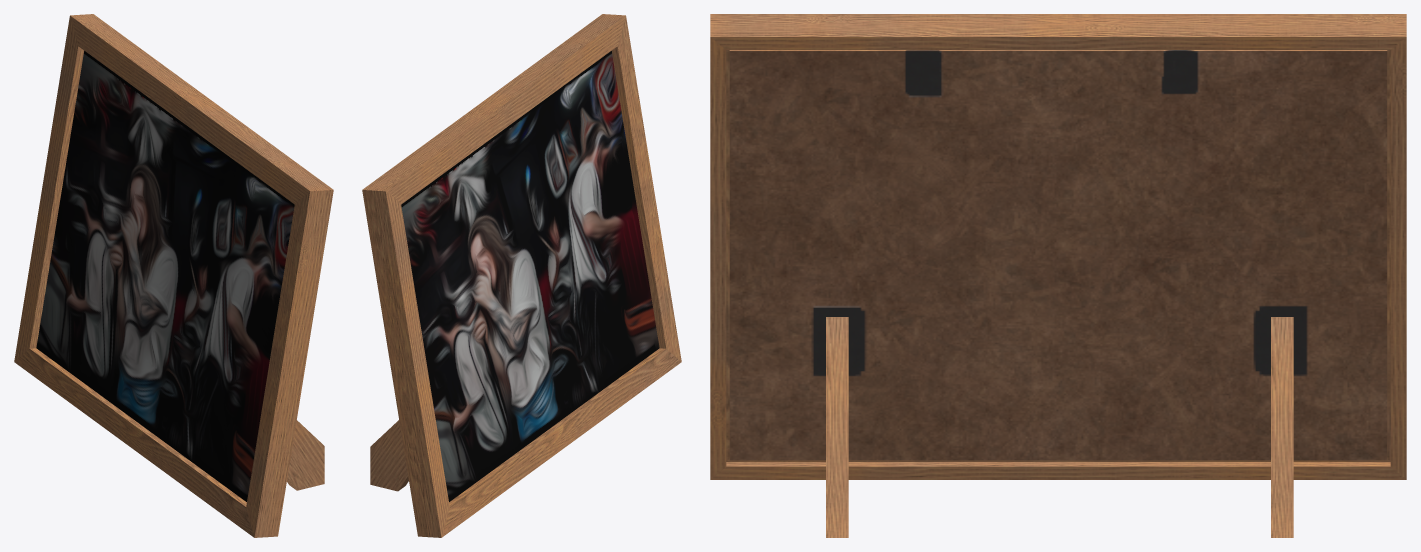
File: SM_Photo_02.fbx
The picture shows the model from 3 angles, left to right: view 1: azimuth 30°, elevation 25°; view 2: azimuth 150°, elevation 25°; view 3: azimuth 270°, elevation 25°; orthographic projection. The views are drawn at different scales.
Visible parts, largest first — view 1: SM_Photo_02_LOD0; view 2: SM_Photo_02_LOD0; view 3: SM_Photo_02_LOD0.
Part boxes in pixels (x1=…): SM_Photo_02_LOD0: x1=14, y1=14, x2=333, y2=537; SM_Photo_02_LOD0: x1=362, y1=14, x2=681, y2=537; SM_Photo_02_LOD0: x1=710, y1=14, x2=1406, y2=537.
Bounding box in the file's own units: 8.03 × 30.34 × 23.5.
